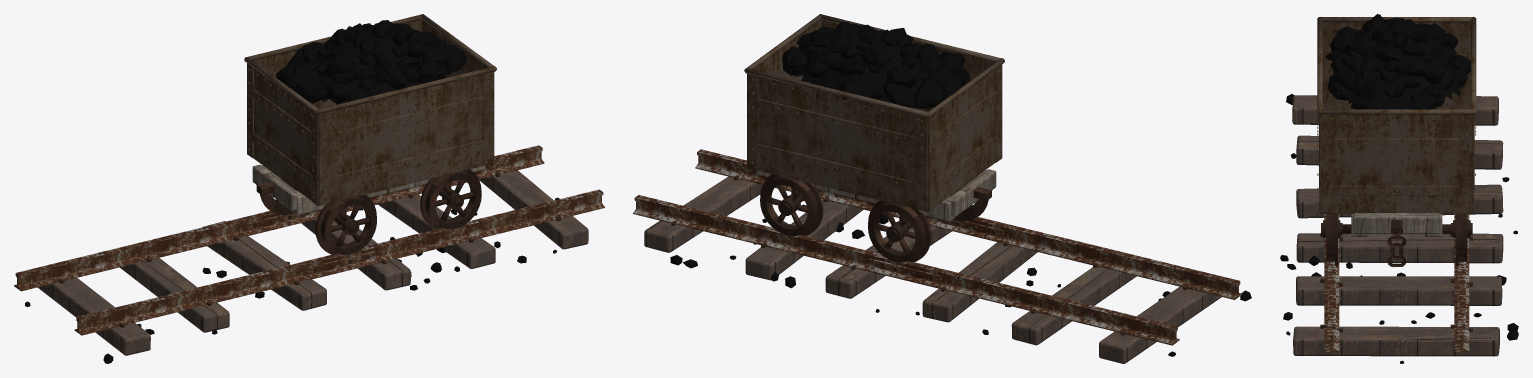
File: coal-tub-on-track.glb
3 views of the same model, side by side, from view 1: azimuth 30°, elevation 25°; view 2: azimuth 150°, elevation 25°; view 3: azimuth 270°, elevation 25° (orthographic). The views are drawn at different scales.
Visible parts, largest first — view 1: track, tub-body, coal-lumps, wheel_back_left, wheel_front_left, coal-heap; view 2: track, tub-body, coal-lumps, wheel_back_right, wheel_front_right, coal-heap; view 3: track, tub-body, coal-lumps, coal-heap, wheel_front_right, wheel_front_left.
Part boxes in pixels (x1,y1,x2,y2): track: [14, 145, 604, 363]; tub-body: [244, 14, 496, 232]; coal-lumps: [276, 20, 466, 104]; wheel_back_left: [315, 195, 376, 254]; wheel_front_left: [420, 169, 481, 229]; coal-heap: [309, 33, 447, 103]; track: [633, 149, 1251, 363]; tub-body: [744, 14, 1004, 228]; coal-lumps: [782, 21, 970, 108]; wheel_back_right: [868, 200, 931, 262]; wheel_front_right: [760, 174, 823, 236]; coal-heap: [788, 37, 922, 103]; track: [1280, 94, 1518, 363]; tub-body: [1317, 17, 1476, 267]; coal-lumps: [1326, 14, 1470, 109]; coal-heap: [1333, 37, 1460, 109]; wheel_front_right: [1451, 214, 1472, 266]; wheel_front_left: [1321, 214, 1342, 266].
Bounding box in the file's own units: 3 × 1.22 × 1.1.
Materials: 7 (7 with a texture image).
